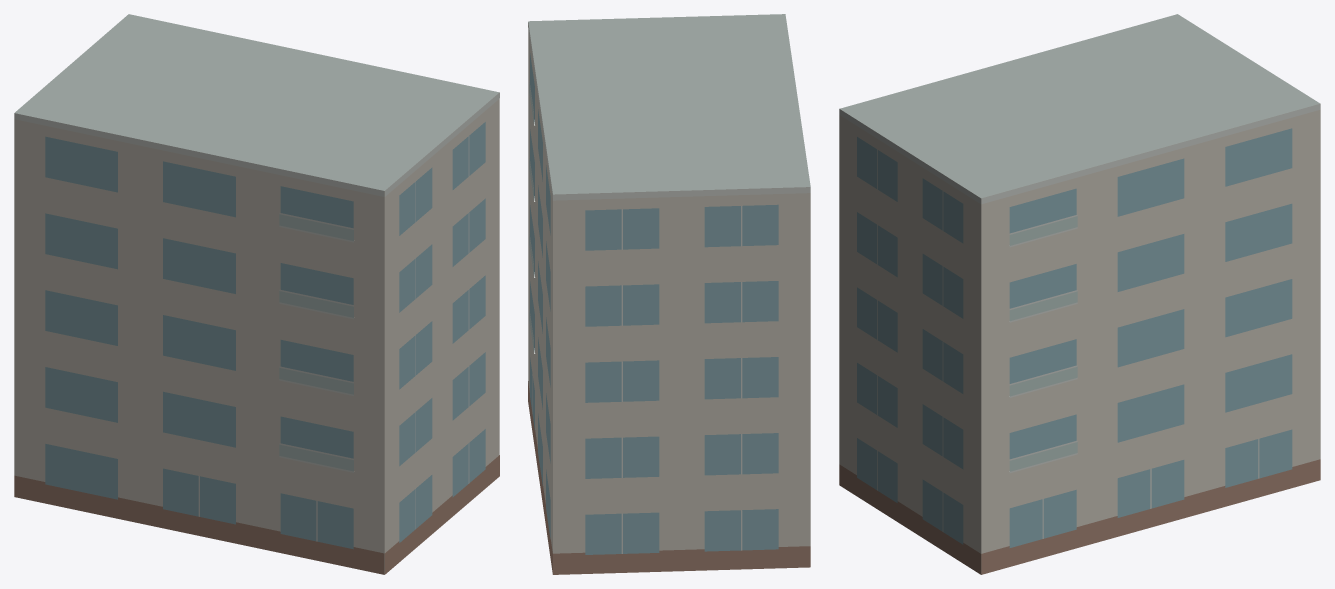
Rendered from survey-upis-32851149.glb.
3 renders of one model, left to right at view 1: azimuth 30°, elevation 25°; view 2: azimuth 150°, elevation 25°; view 3: azimuth 270°, elevation 25°, orthographic.
Parts seen in each view (by area): view 1: survey-upis-32851149.tmp; view 2: survey-upis-32851149.tmp; view 3: survey-upis-32851149.tmp.
Part boxes in pixels (x1=…): survey-upis-32851149.tmp: x1=14, y1=14, x2=499, y2=574; survey-upis-32851149.tmp: x1=528, y1=14, x2=810, y2=574; survey-upis-32851149.tmp: x1=839, y1=14, x2=1320, y2=574.
Bounding box in the file's own units: 16.08 × 15.3 × 17.73.
